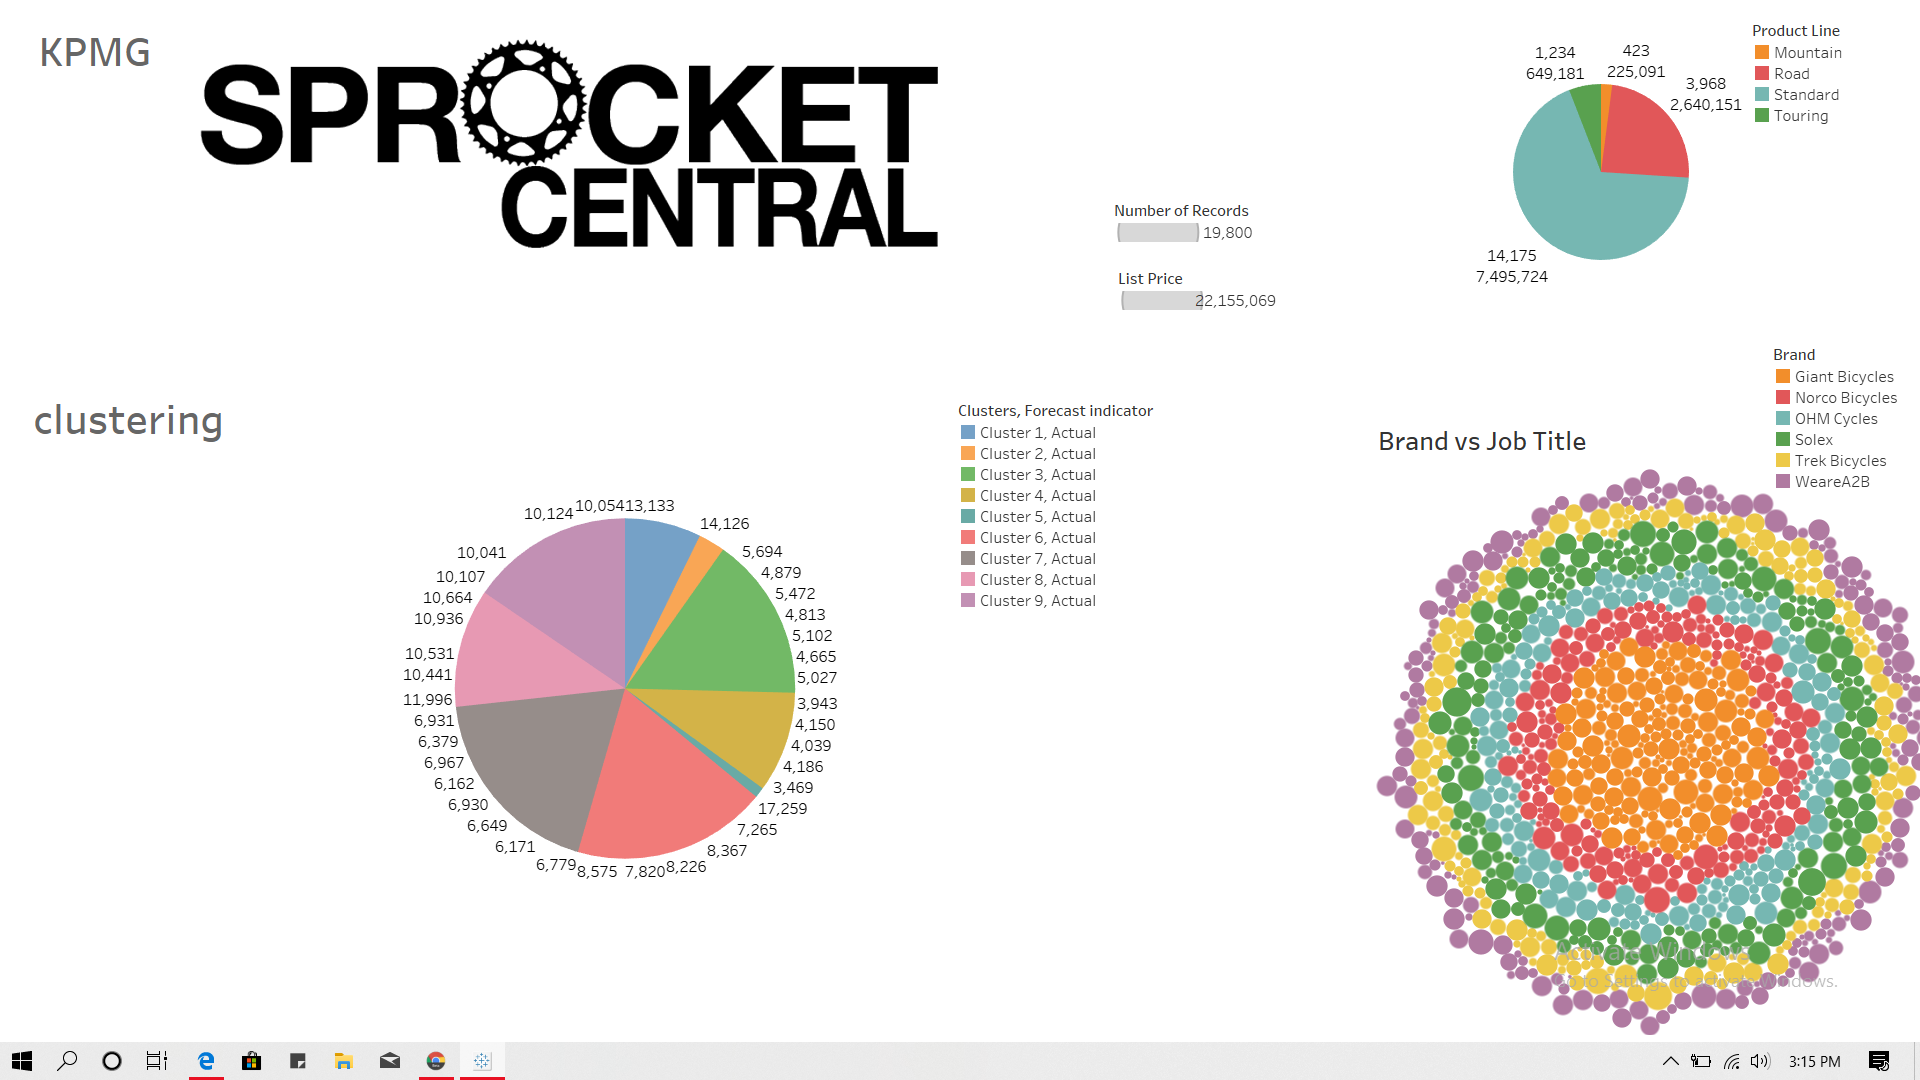

Layout of this report page (visuals, bound fields, positions):
{"tool":"tableau","page":{"name":"Dashboard 1","canvas":[1000,1000],"units":"permille","ordinal":0},"visuals":[{"type":"worksheet","title":"Sheet 2","mark":"Circle","box":[637.9,16,307.2,477.7]},{"type":"text","box":[24.7,39,112.9,34.4]},{"type":"legend","title":"Sheet 2","param":"[federated.10zzsdp0hoaa021cgm0eb0f26sjg].[sum:Number of Records:qk]","box":[844.9,75.6,84.5,100.8]},{"type":"image","param":"Image/sprocket_central_logo.png","box":[96.6,95.1,511.2,215.3]},{"type":"worksheet","title":"Sheet 3","mark":"Automatic","rows":["tenure"],"cols":["customer_id"],"box":[6.6,392.9,624,600.2]},{"type":"worksheet","title":"Sheet 1","mark":"Shape","rows":["list_price","product_first_sold_date","tenure"],"cols":["gender"],"box":[672.9,493.7,322.9,499.4]},{"type":"legend","title":"Sheet 1","param":"[federated.10zzsdp0hoaa021cgm0eb0f26sjg].[none:product_class:nk]","box":[941.5,515.5,42.9,112.3]},{"type":"legend","title":"Sheet 3","param":"[federated.10zzsdp0hoaa021cgm0eb0f26sjg].[none:Forecast Indicator:nk]","box":[465.9,518.9,84.5,73.3]}]}

Visuals, with their boxes on the dashboard's canvas, which has no fixed pixel size, in thousandths of its width and height (x1, y1, x2, y2). These are canvas units, not pixel positions in the 1920x1080 screenshot, which may show the page scaled, cropped or inside an application window:
"Sheet 2" worksheet (Circle marks): [638, 16, 945, 494]
text: [25, 39, 138, 73]
"Sheet 2" legend: [845, 76, 929, 176]
image: [97, 95, 608, 310]
"Sheet 3" worksheet: [7, 393, 631, 993]
"Sheet 1" worksheet (Shape marks): [673, 494, 996, 993]
"Sheet 1" legend: [942, 516, 984, 628]
"Sheet 3" legend: [466, 519, 550, 592]
